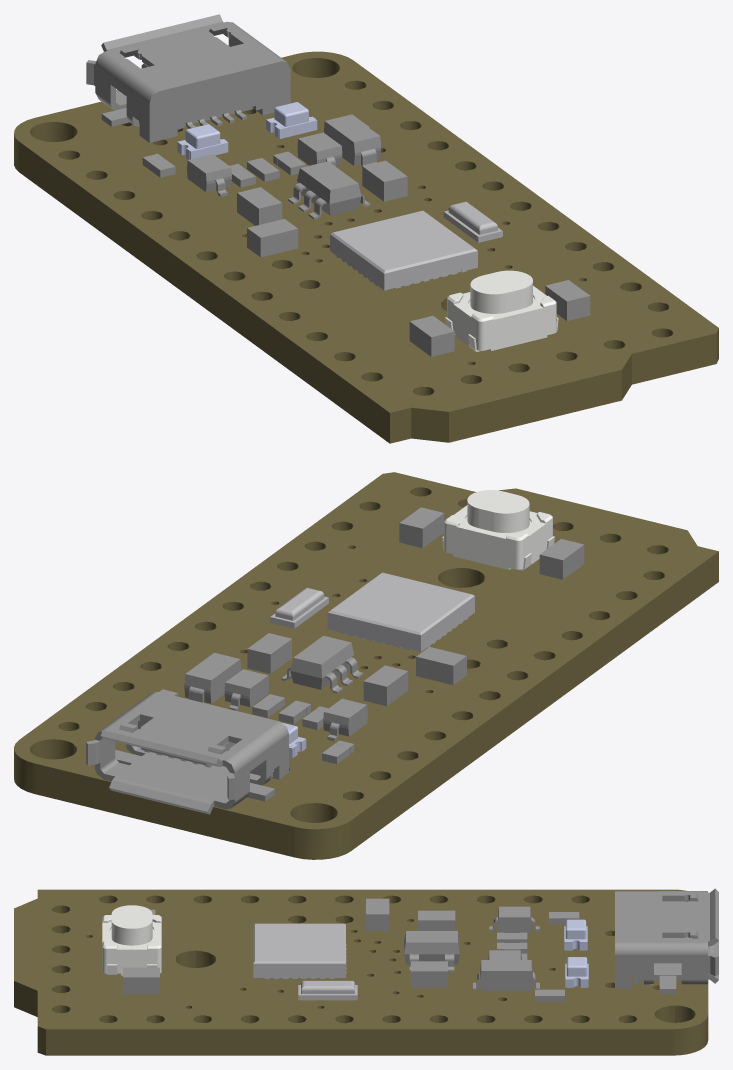
Rendered from ada-2000.glb.
3 views of the same model, one above another, from view 1: azimuth 30°, elevation 25°; view 2: azimuth 150°, elevation 25°; view 3: azimuth 270°, elevation 25° (orthographic). The views are drawn at different scales.
Parts seen in each view (by area): view 1: 0.16666666666666666_0.16666666666666666_0.08333333333333333_, 0.3333333333333333_0.3333333333333333_0.3333333333333333_0, 0.5833333333333334_0.5833333333333334_0.5833333333333334_0.8, 0.9166666666666666_0.9166666666666666_0.9166666666666666_0.8, 0.5833333333333334_0.6666666666666666_0.8333333333333334_0; view 2: 0.16666666666666666_0.16666666666666666_0.08333333333333333_, 0.3333333333333333_0.3333333333333333_0.3333333333333333_0, 0.5833333333333334_0.5833333333333334_0.5833333333333334_0.8, 0.9166666666666666_0.9166666666666666_0.9166666666666666_0.8; view 3: 0.16666666666666666_0.16666666666666666_0.08333333333333333_, 0.3333333333333333_0.3333333333333333_0.3333333333333333_0, 0.5833333333333334_0.5833333333333334_0.5833333333333334_0.8, 0.9166666666666666_0.9166666666666666_0.9166666666666666_0.8, 0.5833333333333334_0.6666666666666666_0.8333333333333334_0.
Part boxes in pixels (x1,y1,x2,y2): 0.16666666666666666_0.16666666666666666_0.08333333333333333_: (14,51,718,443); 0.3333333333333333_0.3333333333333333_0.3333333333333333_0: (86,14,590,356); 0.5833333333333334_0.5833333333333334_0.5833333333333334_0.8: (330,201,502,290); 0.9166666666666666_0.9166666666666666_0.9166666666666666_0.8: (445,270,558,351); 0.5833333333333334_0.6666666666666666_0.8333333333333334_0: (177,102,317,159); 0.16666666666666666_0.16666666666666666_0.08333333333333333_: (14,472,718,859); 0.3333333333333333_0.3333333333333333_0.3333333333333333_0: (86,507,584,814); 0.5833333333333334_0.5833333333333334_0.5833333333333334_0.8: (270,572,474,651); 0.9166666666666666_0.9166666666666666_0.9166666666666666_0.8: (442,490,554,570); 0.16666666666666666_0.16666666666666666_0.08333333333333333_: (14,889,708,1055); 0.3333333333333333_0.3333333333333333_0.3333333333333333_0: (123,888,718,1002); 0.5833333333333334_0.5833333333333334_0.5833333333333334_0.8: (253,923,357,1000); 0.9166666666666666_0.9166666666666666_0.9166666666666666_0.8: (102,905,161,975); 0.5833333333333334_0.6666666666666666_0.8333333333333334_0: (564,919,588,987).
Size of the model in its own units: 1.78 by 0.4338 by 3.79.
